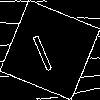I: (25, 25, 56, 73)
